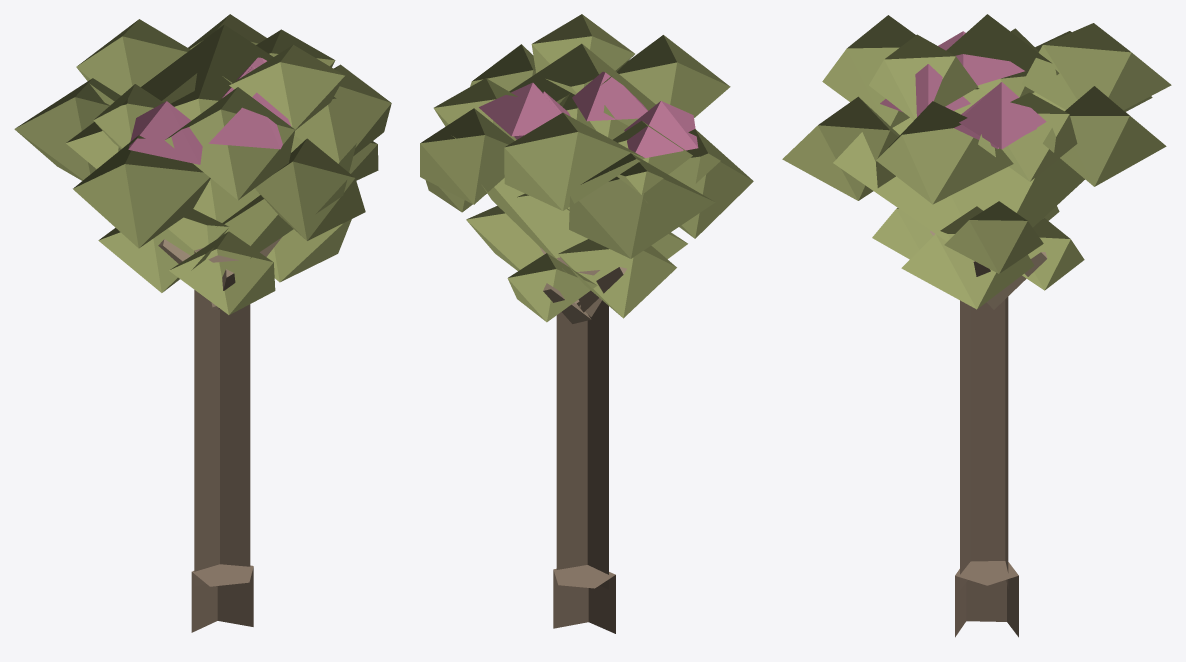
Rendered from tree.trop.kapok__autumn.glb.
3 views of the same model, side by side, from view 1: azimuth 30°, elevation 25°; view 2: azimuth 150°, elevation 25°; view 3: azimuth 270°, elevation 25° (orthographic). The views are drawn at different scales.
Parts seen in each view (by area): view 1: tree.trop.kapok__autumn; view 2: tree.trop.kapok__autumn; view 3: tree.trop.kapok__autumn.
Part boxes in pixels (box(x1,y1,x2,y2)): tree.trop.kapok__autumn: box(14, 14, 391, 632); tree.trop.kapok__autumn: box(420, 14, 753, 633); tree.trop.kapok__autumn: box(782, 14, 1171, 637).
Size of the model in its own units: 16.21 by 30.29 by 17.27.
